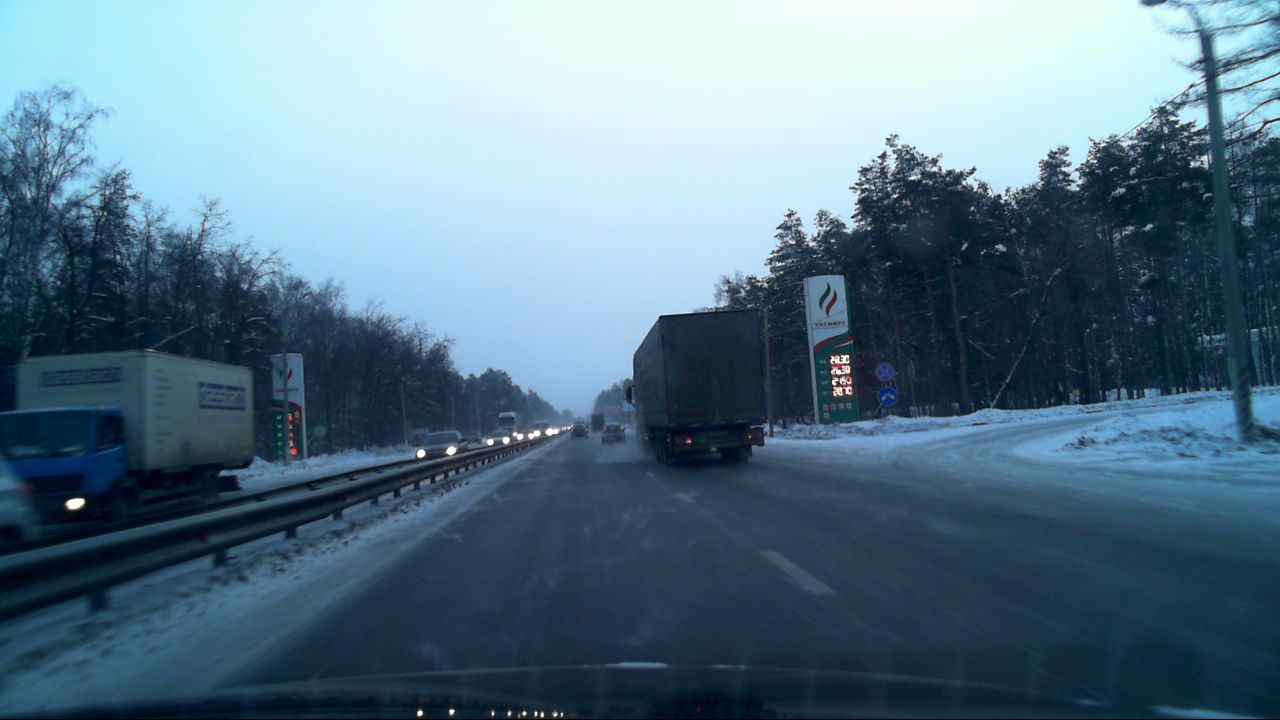No Parking: (874, 358, 894, 382)
